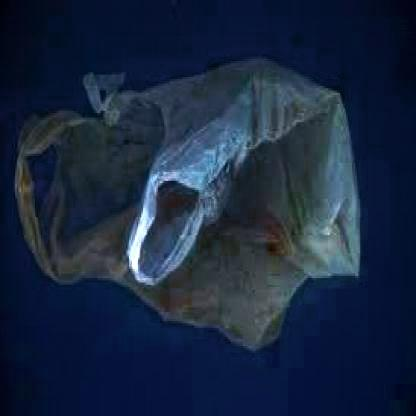pbag: (15, 54, 363, 357)
